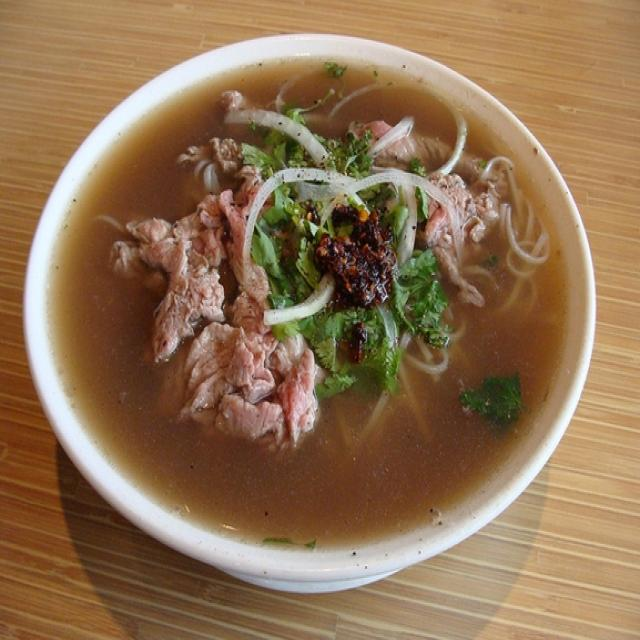面条主食: (61, 61, 579, 541)
